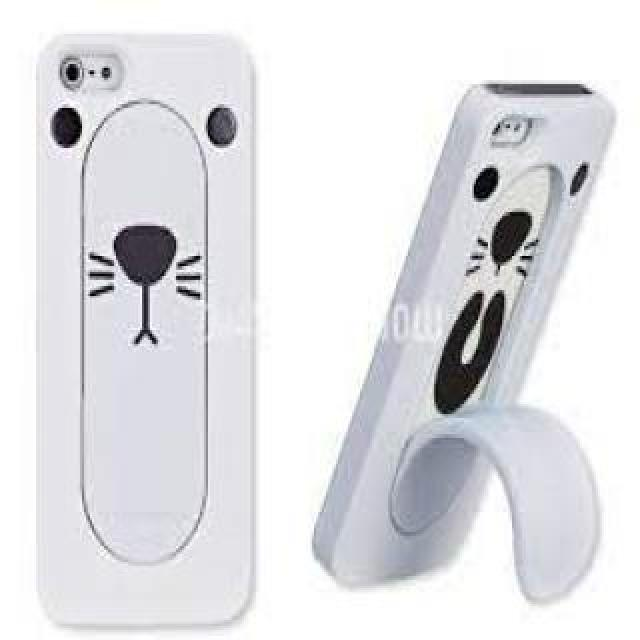smart phone: (314, 53, 588, 632), (34, 16, 264, 640)
